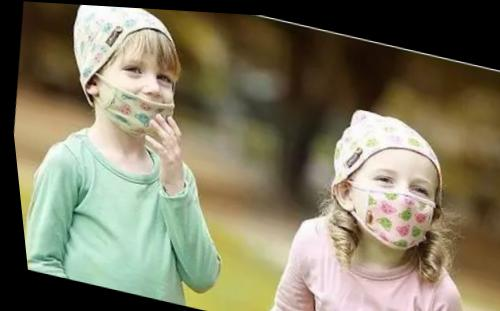OK: (343, 155, 441, 249)
WRONG: (89, 44, 189, 141)
